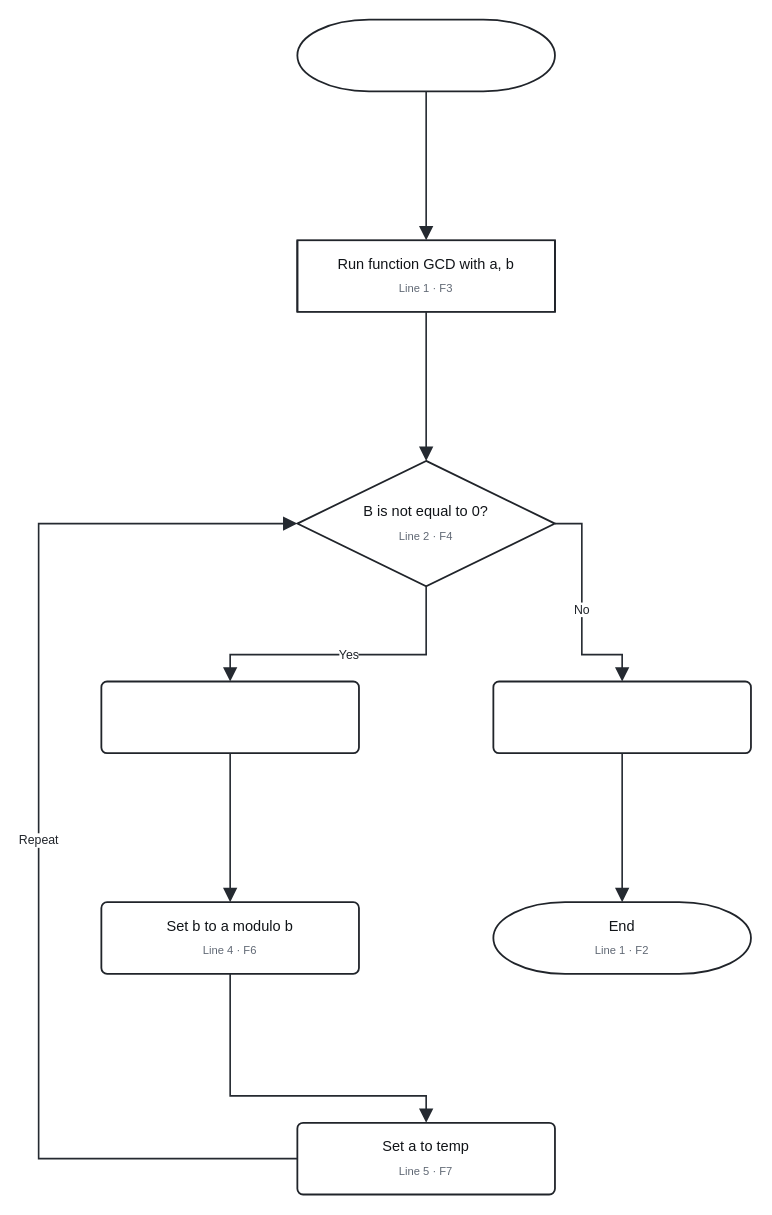
Image size: 772x1215. Some labels were removed from this diagram. Here are the shapes that lost their labels. From the top down, the centre of each, then its label:
At (x=425, y=55): "Start Line 1 · F1".
At (x=229, y=717): "Set temp to b Line 3 · F5".
At (x=621, y=717): "Return a Line 7 · F8".
